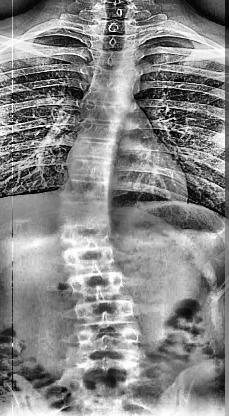Vertebrae: (70, 272, 128, 296), (57, 199, 115, 222), (63, 244, 116, 268), (72, 159, 122, 183), (74, 138, 124, 162), (84, 102, 134, 126), (56, 223, 118, 242), (63, 179, 116, 201), (96, 64, 140, 90), (82, 324, 142, 342), (78, 302, 136, 320), (80, 121, 126, 143), (88, 86, 136, 104), (97, 51, 137, 69), (97, 34, 137, 50)
